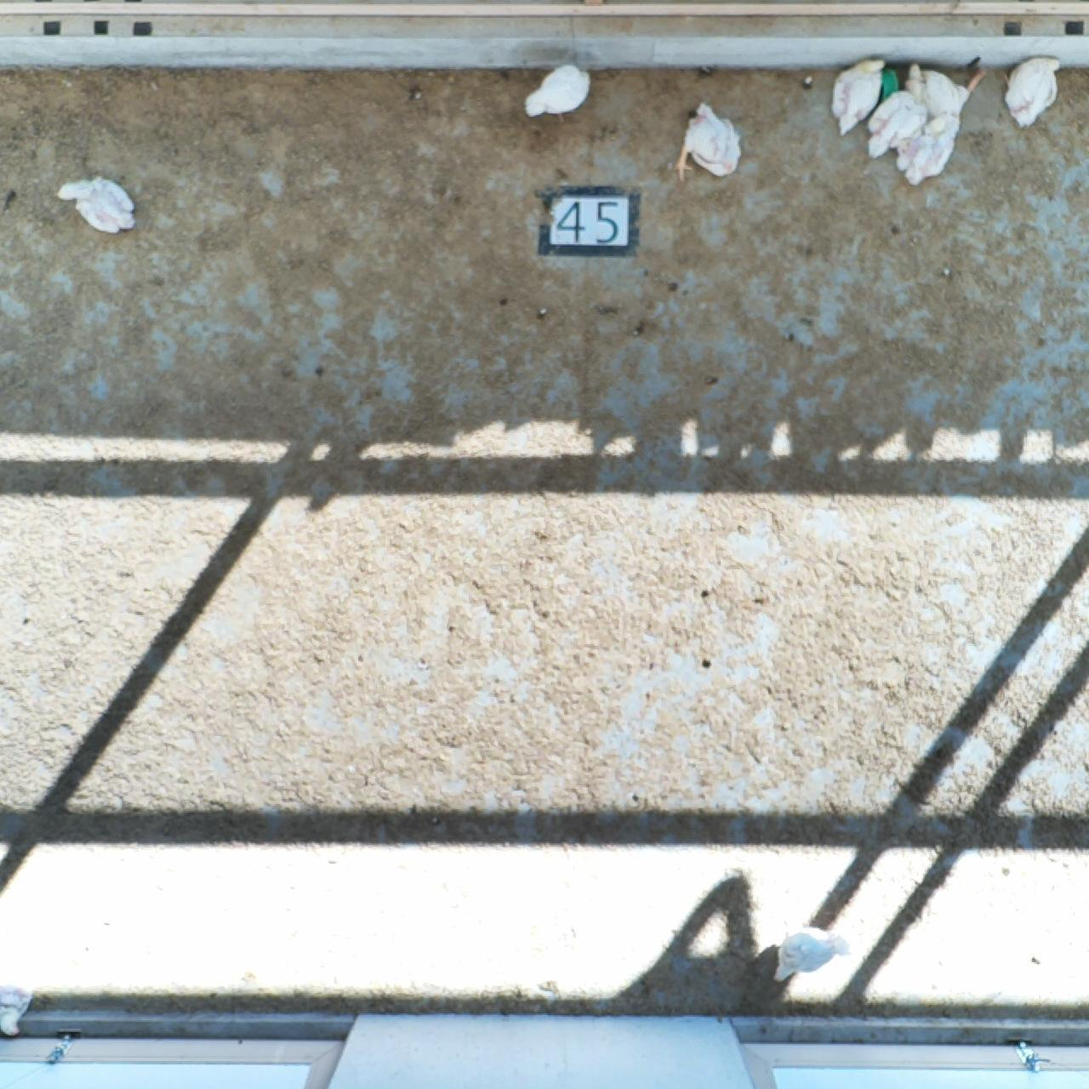chicken: (51, 174, 154, 243), (669, 99, 750, 185), (995, 52, 1062, 132), (902, 64, 977, 135), (856, 88, 930, 158), (829, 54, 883, 141), (522, 63, 602, 120), (773, 928, 852, 985), (900, 111, 956, 190)
